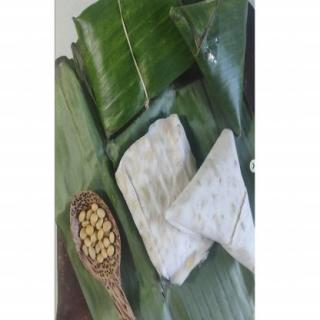Tempe: (113, 113, 219, 286)
